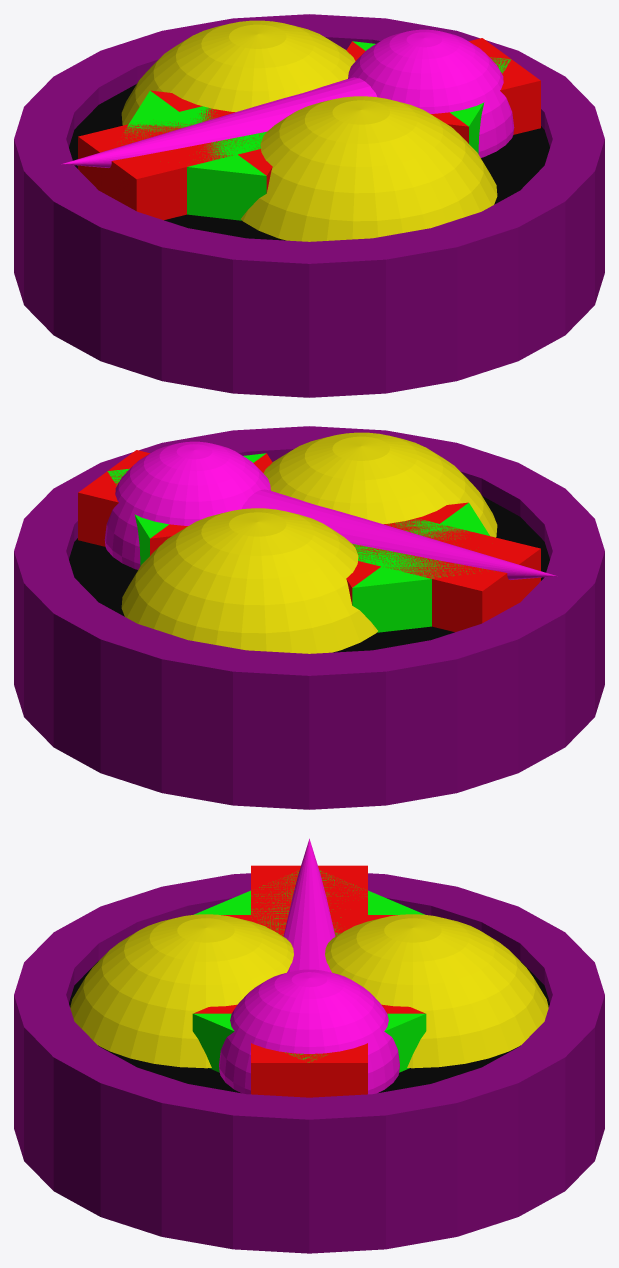
File: powerups.glb
The picture shows the model from 3 angles, top to bottom: view 1: azimuth 30°, elevation 25°; view 2: azimuth 150°, elevation 25°; view 3: azimuth 270°, elevation 25°; orthographic projection.
Visible parts, largest first — view 1: powerup.boost, powerup.split, powerup.shrink, powerup.stretch; view 2: powerup.boost, powerup.split, powerup.shrink, powerup.stretch; view 3: powerup.boost, powerup.split, powerup.shrink, powerup.stretch.
Part boxes in pixels (x1=…): powerup.boost: x1=14, y1=14, x2=604, y2=397; powerup.split: x1=121, y1=20, x2=497, y2=241; powerup.shrink: x1=78, y1=38, x2=540, y2=220; powerup.stretch: x1=122, y1=41, x2=511, y2=220; powerup.boost: x1=14, y1=426, x2=604, y2=809; powerup.split: x1=121, y1=432, x2=497, y2=653; powerup.shrink: x1=78, y1=450, x2=540, y2=632; powerup.stretch: x1=107, y1=453, x2=494, y2=632; powerup.boost: x1=14, y1=838, x2=604, y2=1253; powerup.split: x1=70, y1=914, x2=548, y2=1068; powerup.shrink: x1=193, y1=865, x2=425, y2=1097; powerup.stretch: x1=192, y1=870, x2=426, y2=1072.
Size of the model in its own units: 0.8 by 0.3089 by 0.8.
